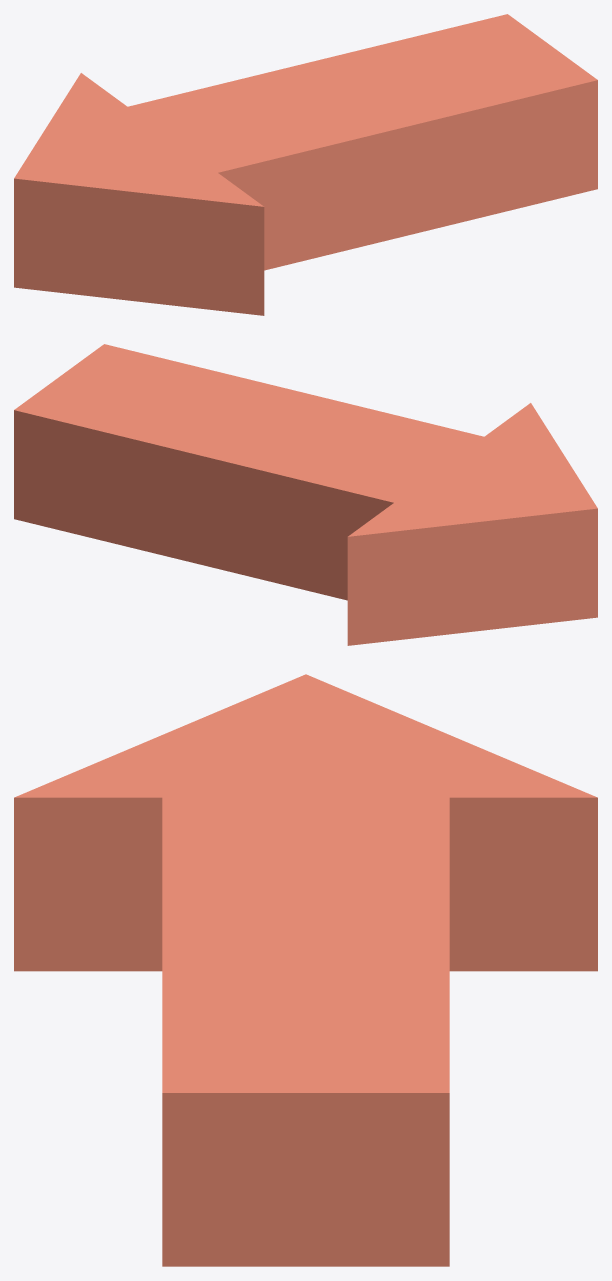
The model's file is arrow.glb.
The picture shows the model from 3 angles, top to bottom: view 1: azimuth 30°, elevation 25°; view 2: azimuth 150°, elevation 25°; view 3: azimuth 270°, elevation 25°; orthographic projection. The views are drawn at different scales.
Visible parts, largest first — view 1: arrow; view 2: arrow; view 3: arrow.
Boxes of the visible parts, <box> form: arrow: <box>14,14,597,315</box>; arrow: <box>14,344,597,645</box>; arrow: <box>14,674,597,1266</box>.
Size of the model in its own units: 5.62 by 1.09 by 3.31.
